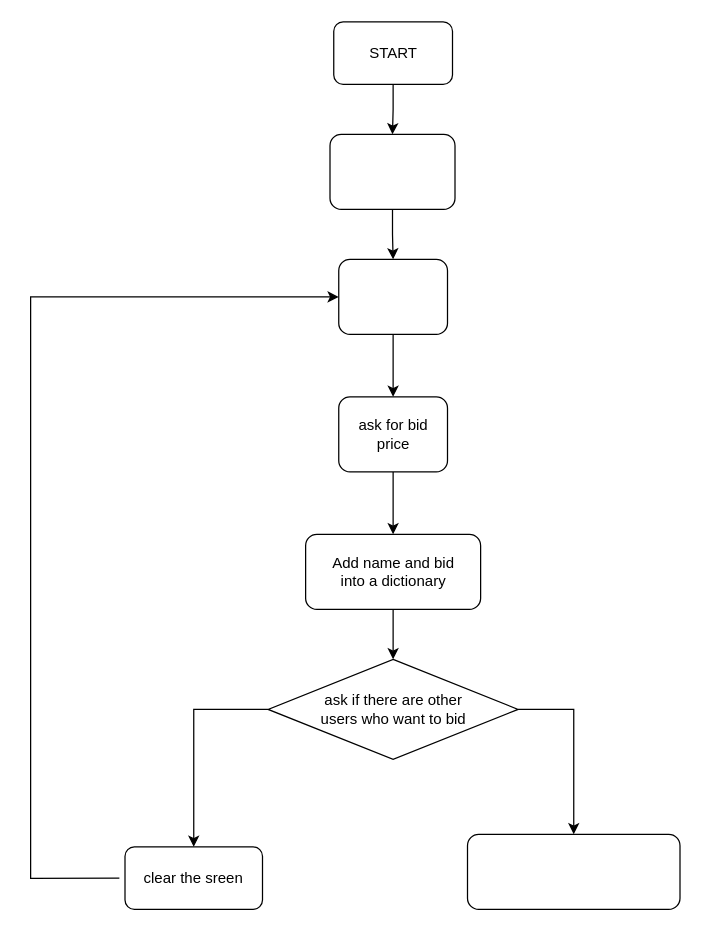
Some shapes in this 703 by 931 pixel diagram are drawn without their labels. The shapes that lost their labels are listed below. From the top down, each one's centre as x and y in pixels, then its label:
point 392,171: show logo from art.py
point 393,296: ask for name input
point 573,871: find the highest bid in the dictionary and declare them as winner
